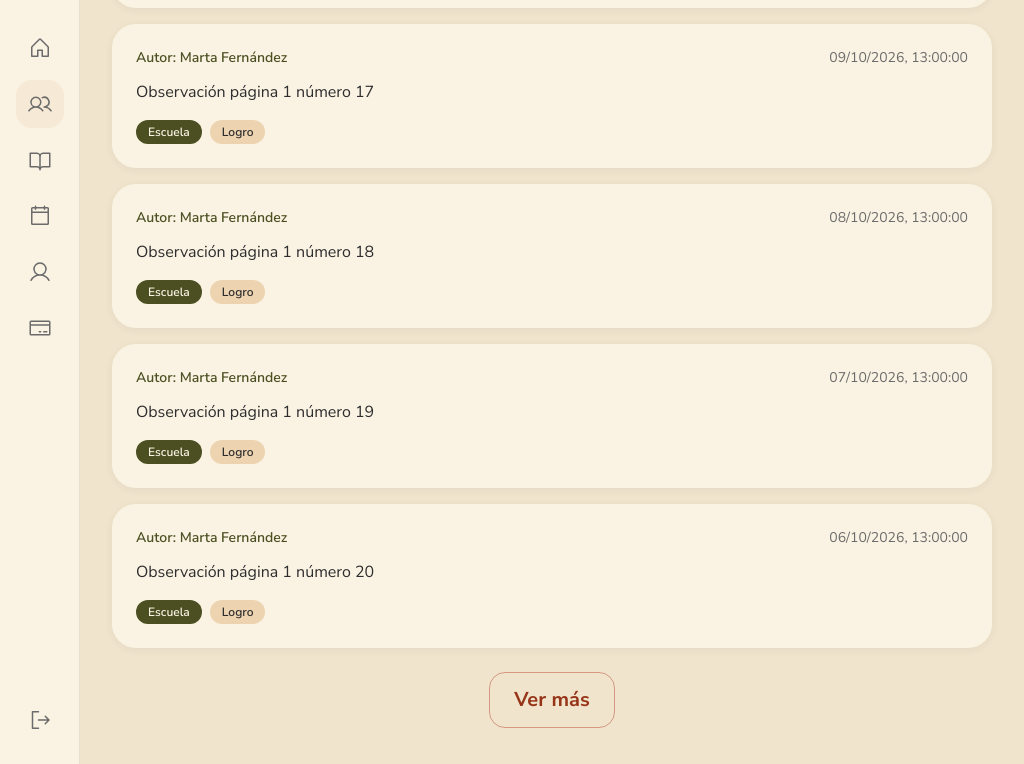
Test case: Filtros y paginación de la bitácora (Tarea 4.1) › muestra el botón "Ver más" cuando hay 20 observaciones y carga las siguientes al pulsarlo
(page scrolled)
Step 1. Click the button "Ver más" → click(552, 700), box [489,672,615,728]
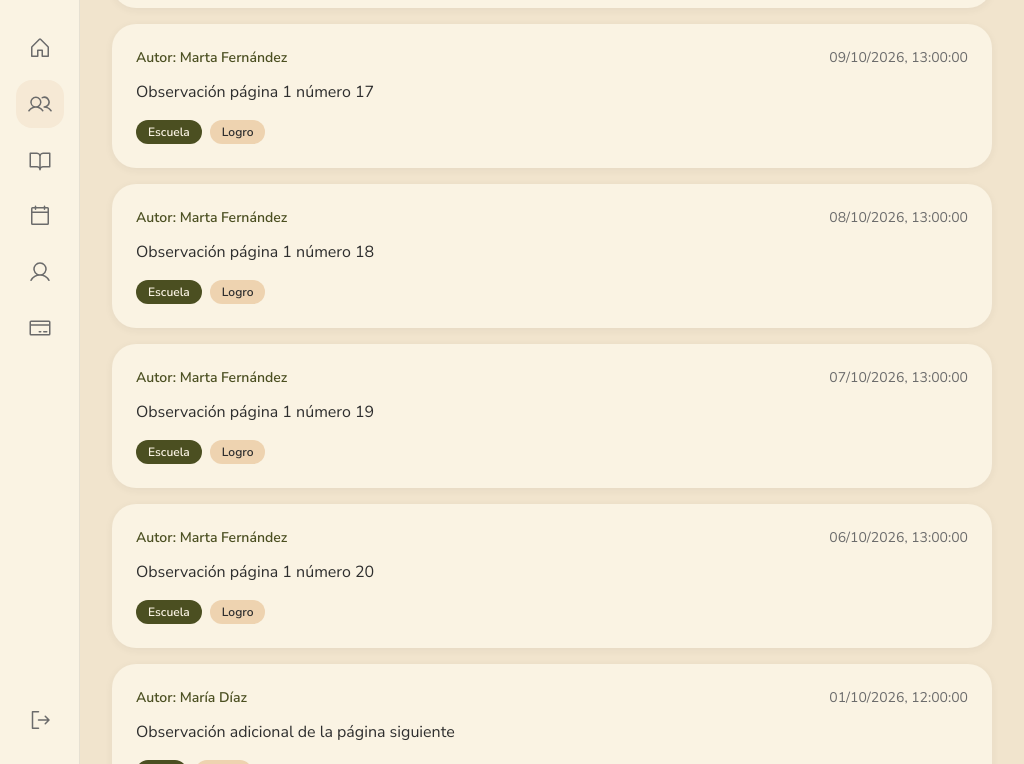
Result: the text "Observación adicional de la página siguiente" is shown at [136,721,455,743]
Result: the button "Ver más" is gone
